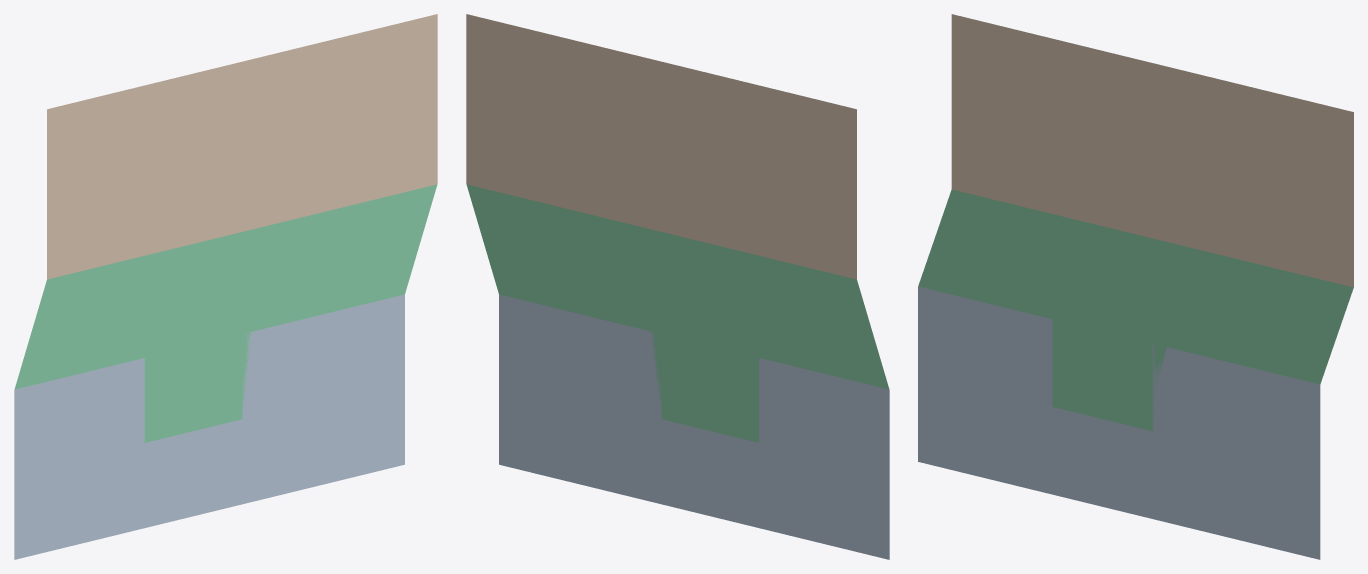
Rendered from scenario3-notch.glb.
3 renders of one model, left to right at view 1: azimuth 30°, elevation 25°; view 2: azimuth 150°, elevation 25°; view 3: azimuth 330°, elevation 25°, orthographic. The views are drawn at different scales.
Parts seen in each view (by area): view 1: scenario3-concave-notch; view 2: scenario3-concave-notch; view 3: scenario3-concave-notch.
Part boxes in pixels (<box>): scenario3-concave-notch: <box>14,14,437,559</box>; scenario3-concave-notch: <box>466,14,889,559</box>; scenario3-concave-notch: <box>918,14,1353,559</box>.
Bounding box in the file's own units: 2.6 × 2.6 × 0.
